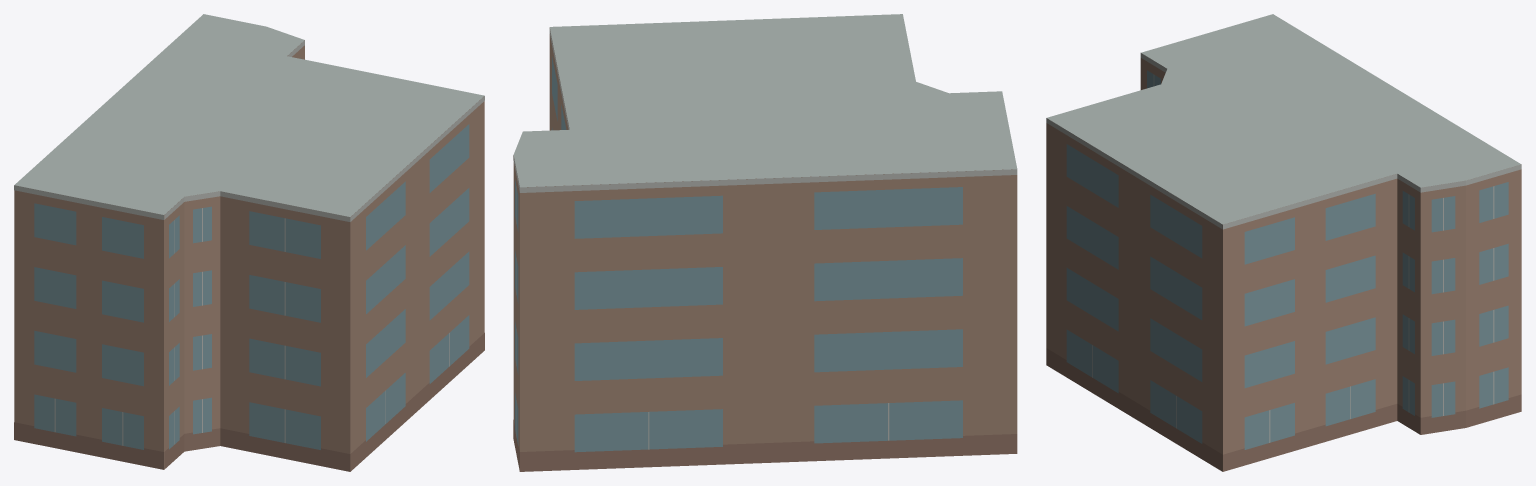
Rendered from survey-upis-32938273.glb.
3 renders of one model, left to right at view 1: azimuth 30°, elevation 25°; view 2: azimuth 150°, elevation 25°; view 3: azimuth 270°, elevation 25°, orthographic. The views are drawn at different scales.
Parts seen in each view (by area): view 1: survey-upis-32938273.tmp; view 2: survey-upis-32938273.tmp; view 3: survey-upis-32938273.tmp.
Boxes of the visible parts, x1,y1,x2,y2 form: survey-upis-32938273.tmp: (14,14,484,471); survey-upis-32938273.tmp: (513,14,1017,471); survey-upis-32938273.tmp: (1046,14,1521,471).
Size of the model in its own units: 22.29 by 12.2 by 21.25.
